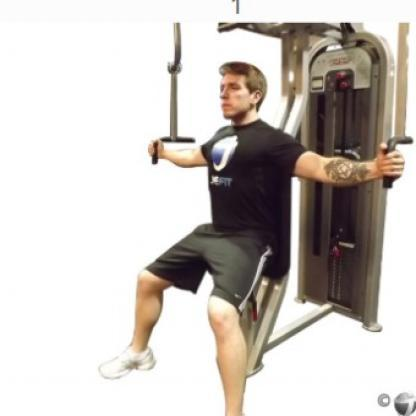chest fly machine: (95, 0, 416, 416)
